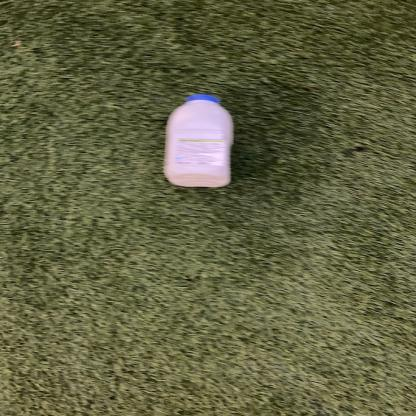trash: (163, 94, 239, 190)
